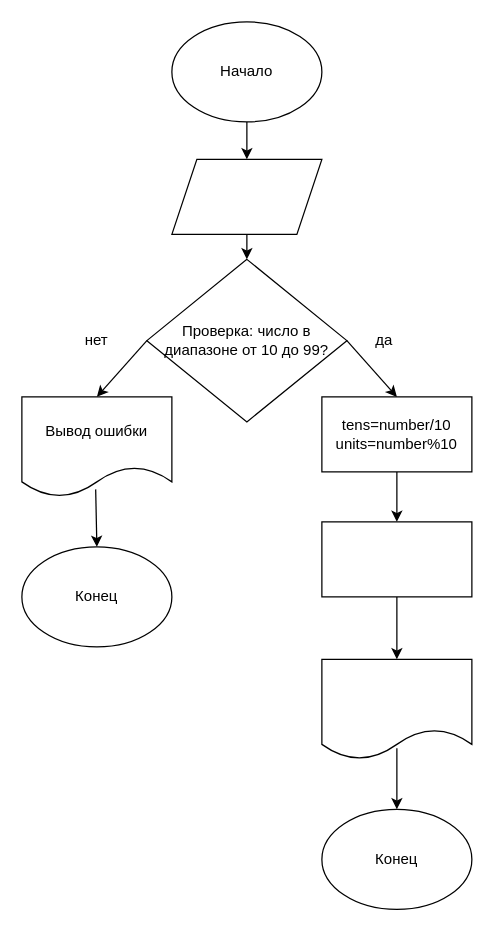
The diagram is 494 pixels wide and 931 high, and some of its shapes have lost their labels. Here are the shapes that lost their labels. From the top down, the box of each, then its label:
(171, 158, 322, 234): Ввод двузначного числа
(321, 521, 472, 597): sum=tens+units
(321, 658, 472, 759): Вывод суммы
